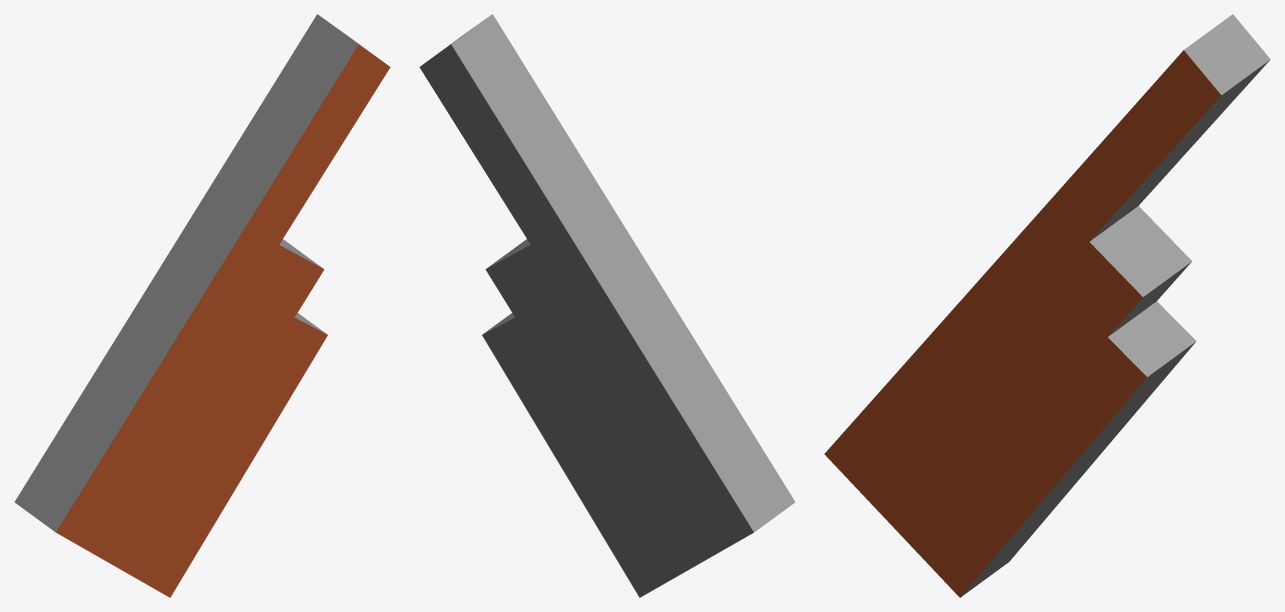
File: construction_7033_assumed_A_Casa_h6m.obj
3 views of the same model, side by side, from view 1: azimuth 30°, elevation 25°; view 2: azimuth 150°, elevation 25°; view 3: azimuth 330°, elevation 25° (orthographic). The views are drawn at different scales.
Visible parts, largest first — view 1: construction_7033_assumed_A_Casa; view 2: construction_7033_assumed_A_Casa; view 3: construction_7033_assumed_A_Casa.
Part boxes in pixels (x1=…): construction_7033_assumed_A_Casa: x1=14, y1=14, x2=390, y2=597; construction_7033_assumed_A_Casa: x1=419, y1=14, x2=795, y2=597; construction_7033_assumed_A_Casa: x1=824, y1=14, x2=1270, y2=597.
Bounding box in the file's own units: 27.96 × 40.51 × 6.
